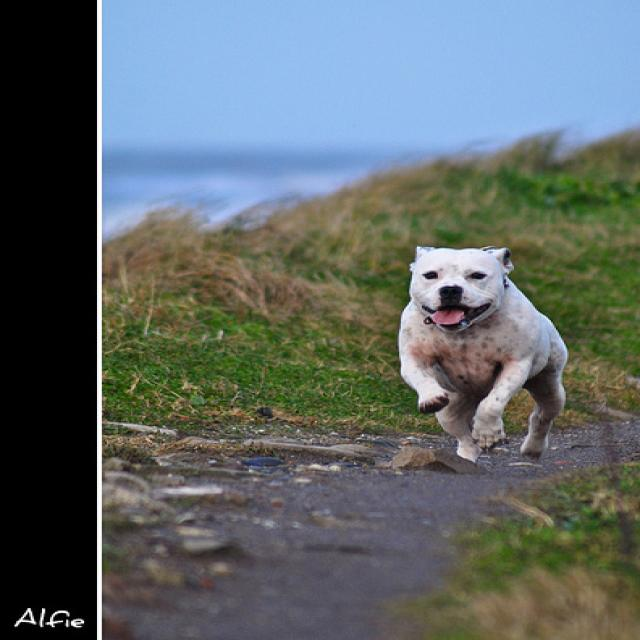dog-staffordshire_bull_terrier: (391, 238, 577, 471)
